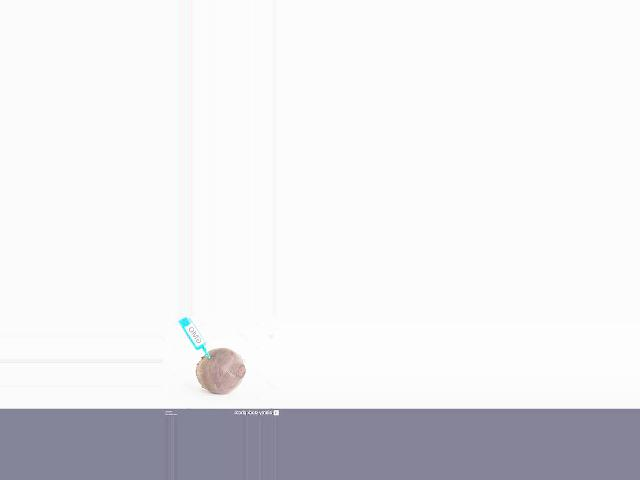beet: (195, 348, 245, 395)
